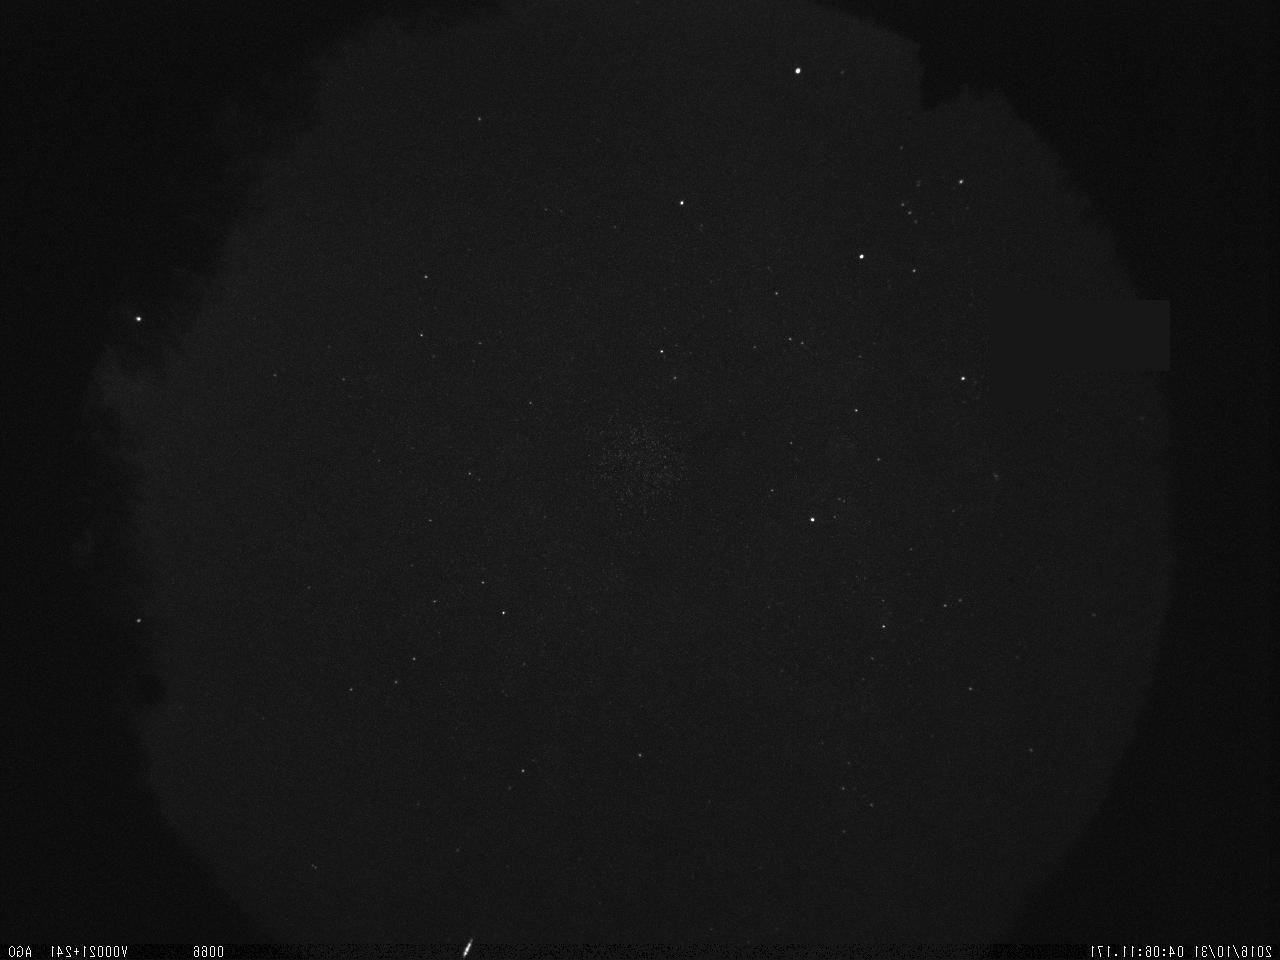meteor: (456, 933, 475, 960)
